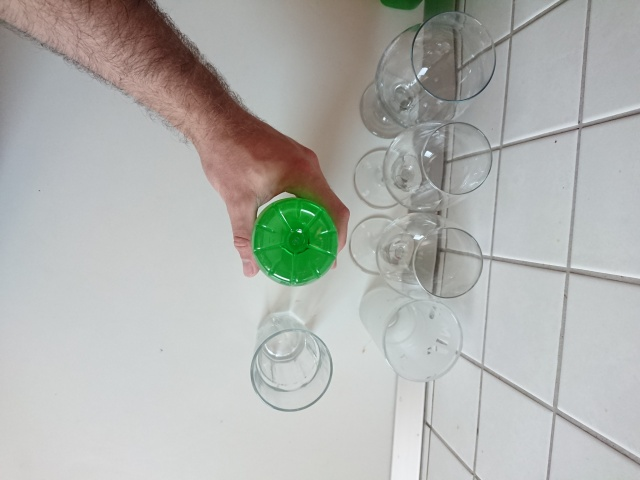Vindi Iso Sport Lemon-Grapefruit 500mL: (248, 195, 341, 289)
